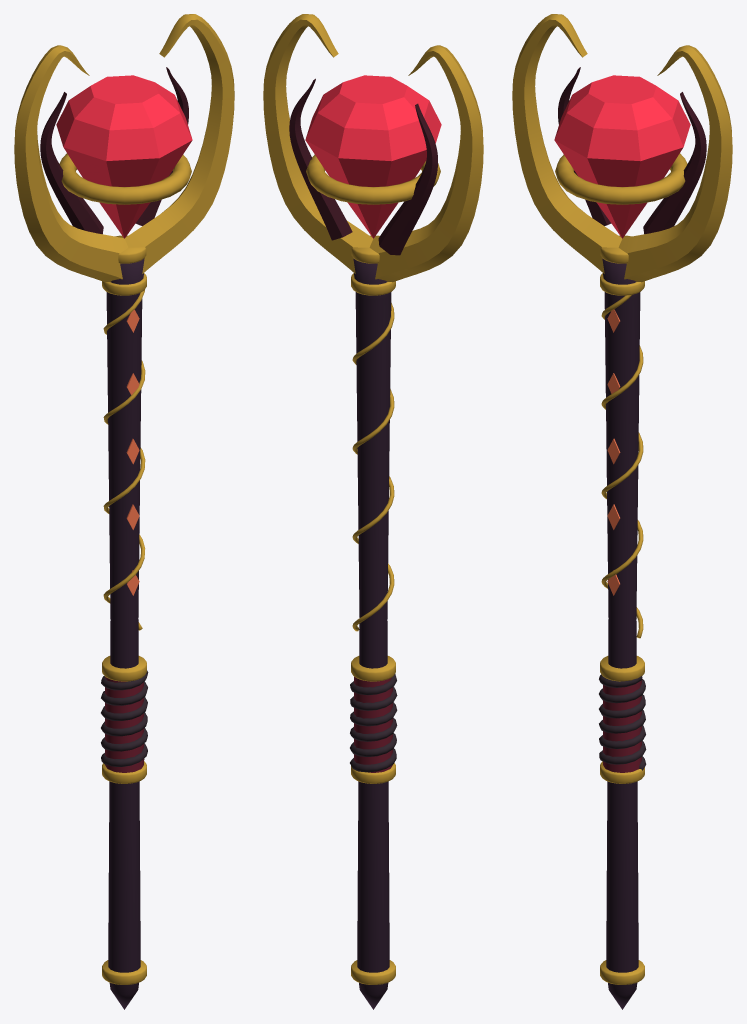
File: staff_ruby.fbx
3 views of the same model, side by side, from view 1: azimuth 30°, elevation 25°; view 2: azimuth 150°, elevation 25°; view 3: azimuth 330°, elevation 25° (orthographic).
Visible parts, largest first — view 1: staff_ruby; view 2: staff_ruby; view 3: staff_ruby.
Boxes of the visible parts, left/top/right/bottom form: staff_ruby: left=14, top=14, right=234, bottom=1009; staff_ruby: left=263, top=14, right=483, bottom=1009; staff_ruby: left=512, top=14, right=732, bottom=1009.
Bounding box in the file's own units: 0.3245 × 1.38 × 0.18.
